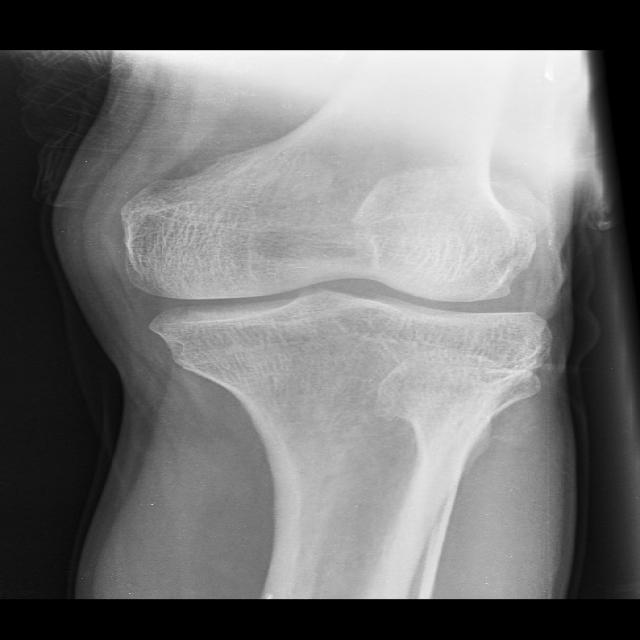osteo: (106, 169, 567, 363)
